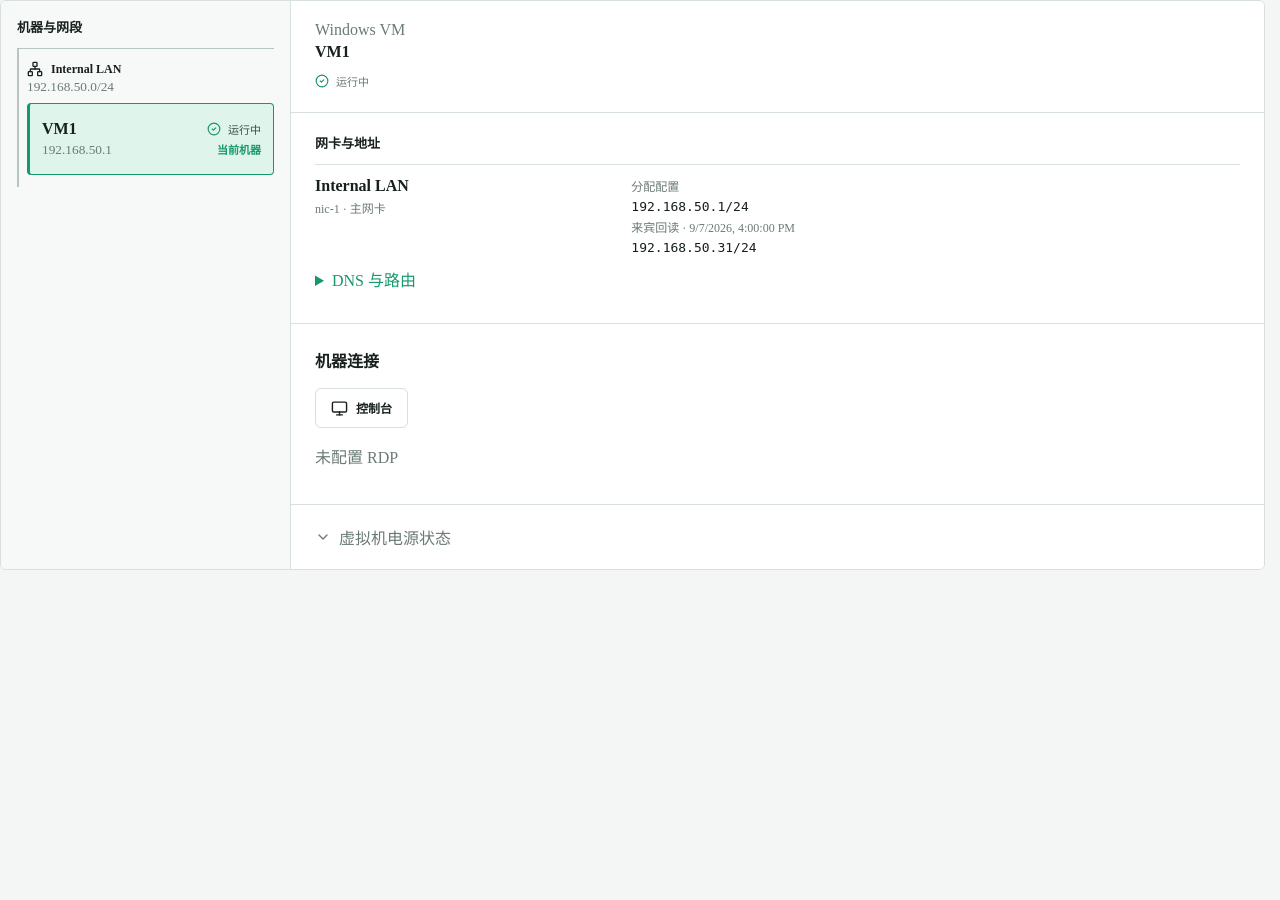
Test: RuntimeAssetWorkspace asset switching › keeps a guest readback distinct from the allocated address
The image size is (1280, 900).
expect the element "网卡与地址" shows "192.168.50.1/24": met, box 631,199 -> 749,214
expect the element "网卡与地址" shows "192.168.50.31/24": met, box 291,113 -> 1264,324
Click the heading "DNS 与路由" at point(374, 280), box 332,272 -> 416,289
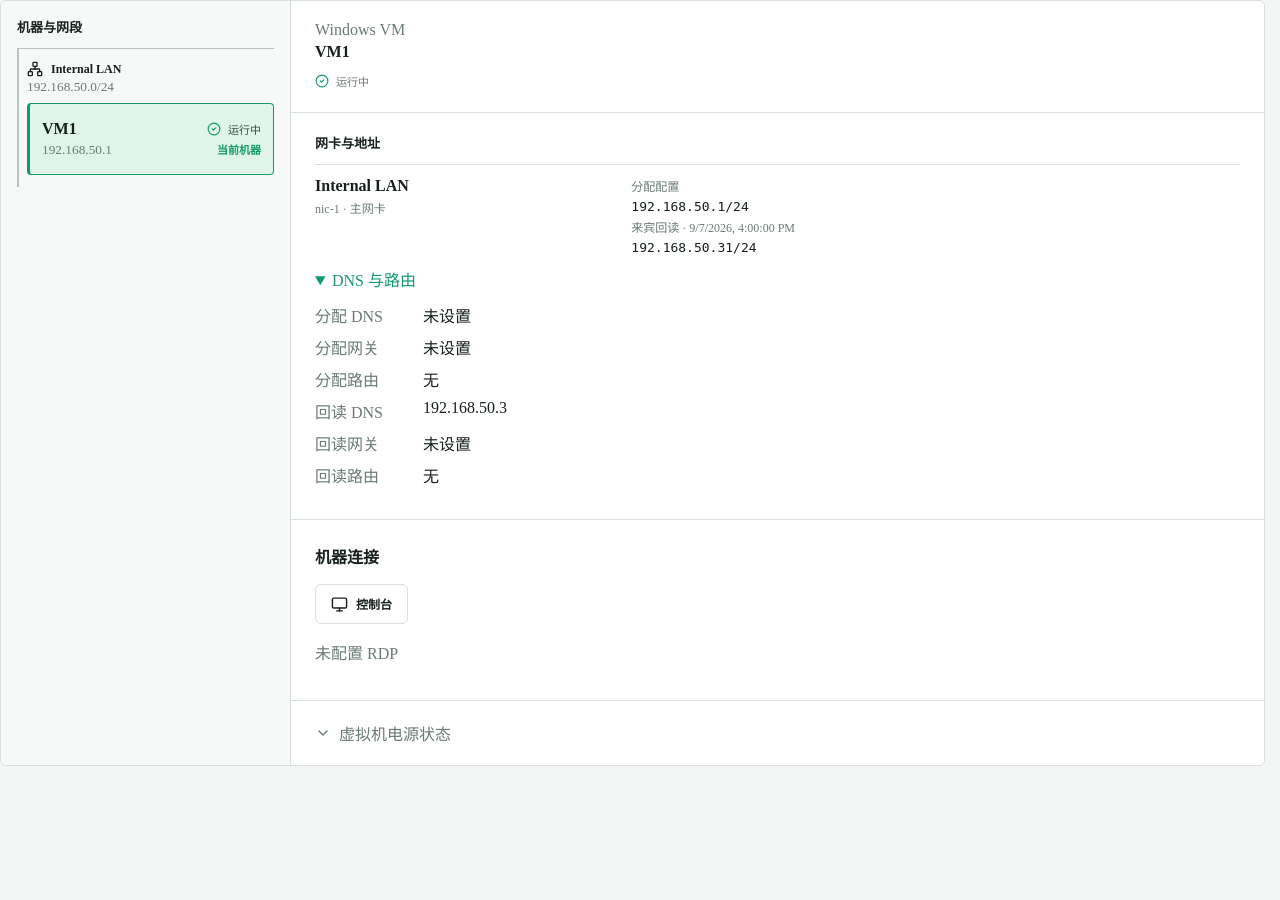
expect the element "网卡与地址" shows "192.168.50.3": met, box 423,399 -> 507,416
expect the element "网卡与地址" shows "回读 DNS": met, box 315,404 -> 383,421
